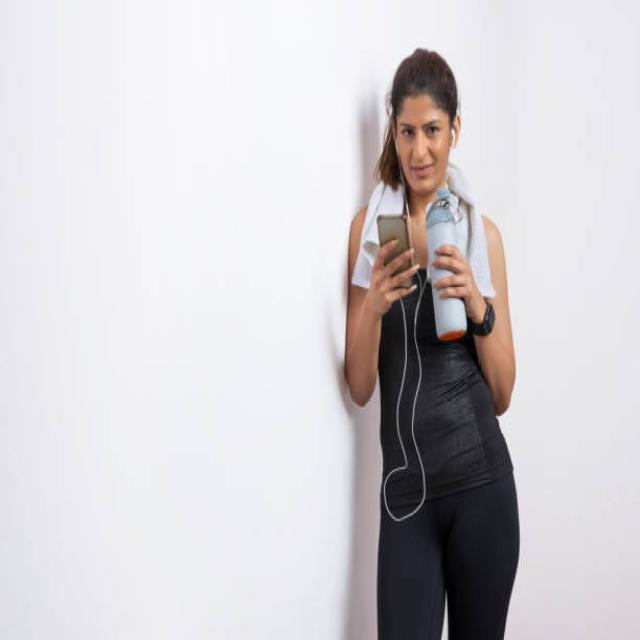Earphone: (396, 126, 456, 466)
